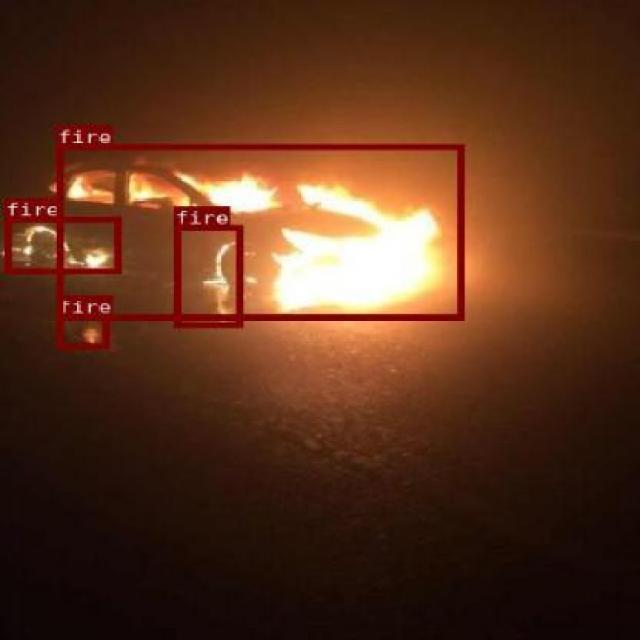Fire: (56, 143, 462, 319), (174, 225, 242, 326), (4, 216, 121, 272), (55, 312, 108, 348)
